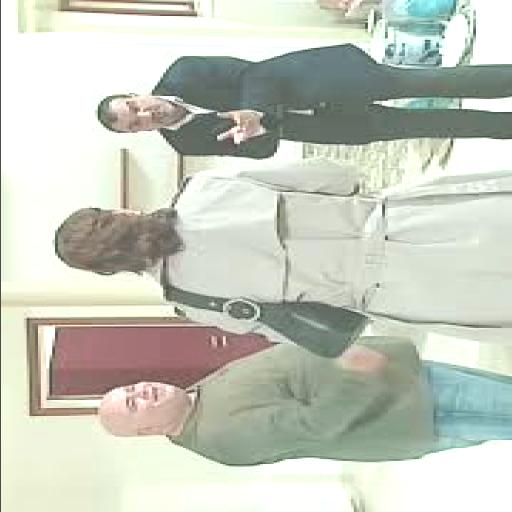sboui: (97, 381, 191, 435)
slimane: (94, 93, 185, 131)
zeineb: (51, 206, 176, 274)
